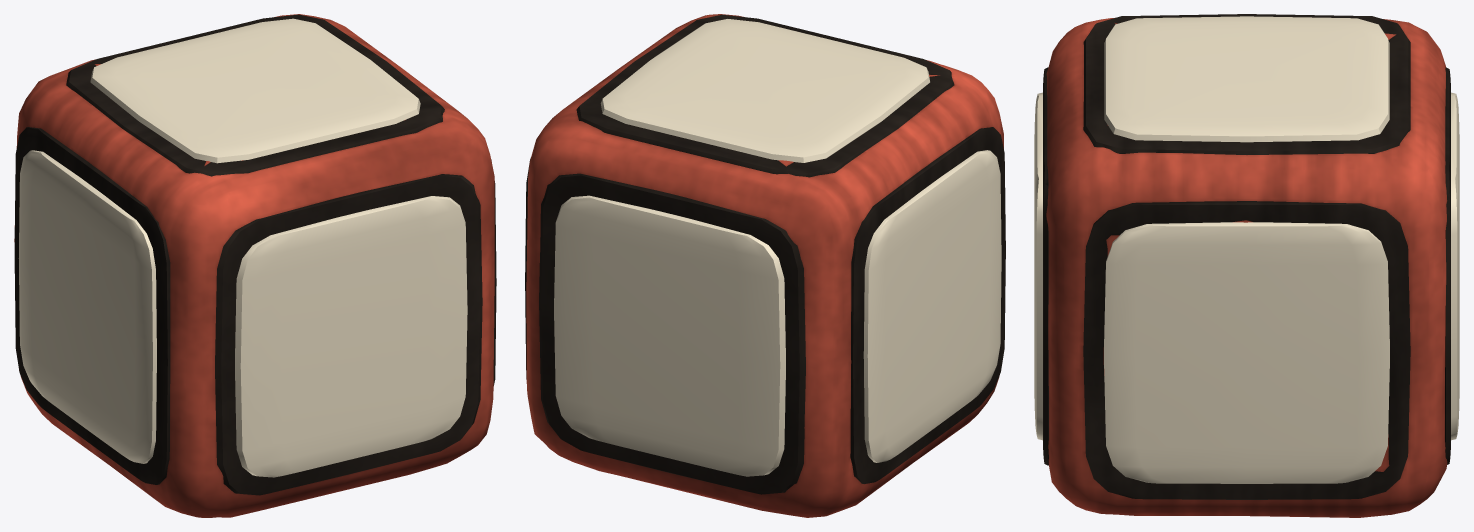
Rendered from d2_block.glb.
The picture shows the model from 3 angles, left to right: view 1: azimuth 30°, elevation 25°; view 2: azimuth 150°, elevation 25°; view 3: azimuth 270°, elevation 25°; orthographic projection. The views are drawn at different scales.
Parts seen in each view (by area): view 1: Cube, Front, Left, Top; view 2: Cube, Back, Left, Top; view 3: Cube, Right, Top, Back, Front.
Part boxes in pixels (box(x1,y1,x2,y2)): Cube: box(14, 14, 496, 517); Front: box(235, 196, 467, 477); Left: box(18, 150, 156, 463); Top: box(90, 18, 420, 163); Cube: box(525, 14, 1005, 517); Back: box(554, 195, 785, 476); Left: box(863, 150, 1001, 462); Top: box(600, 19, 929, 162); Cube: box(1043, 14, 1450, 517); Right: box(1104, 222, 1389, 483); Top: box(1104, 16, 1389, 142); Back: box(1451, 92, 1459, 440); Front: box(1034, 92, 1042, 440).
Bounding box in the file's own units: 0.826 × 0.8147 × 0.8257.
Materials: 2 (1 with a texture image).
